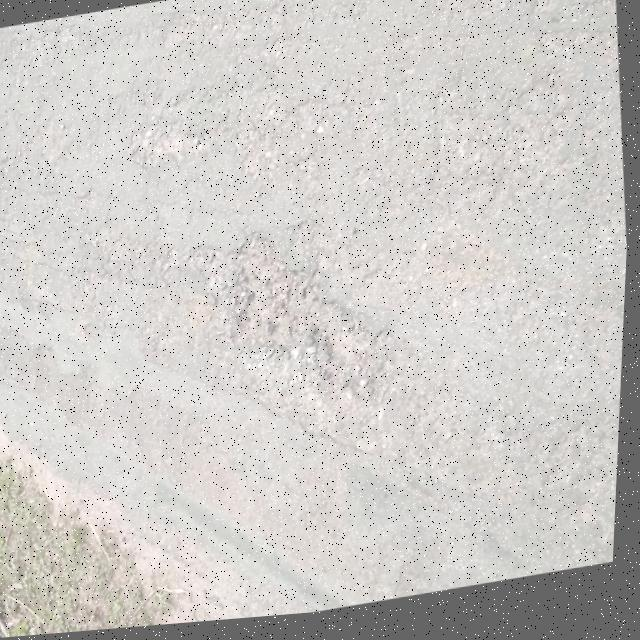pothole: (184, 210, 408, 434)
